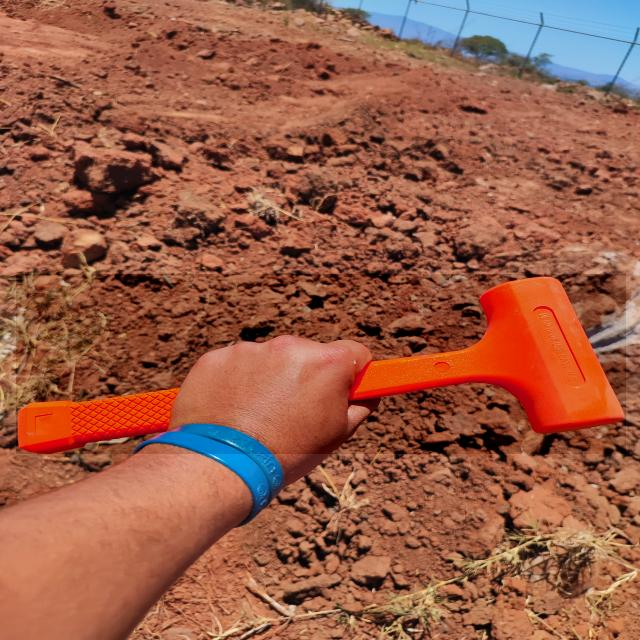Orange_hammer: (16, 274, 626, 454)
